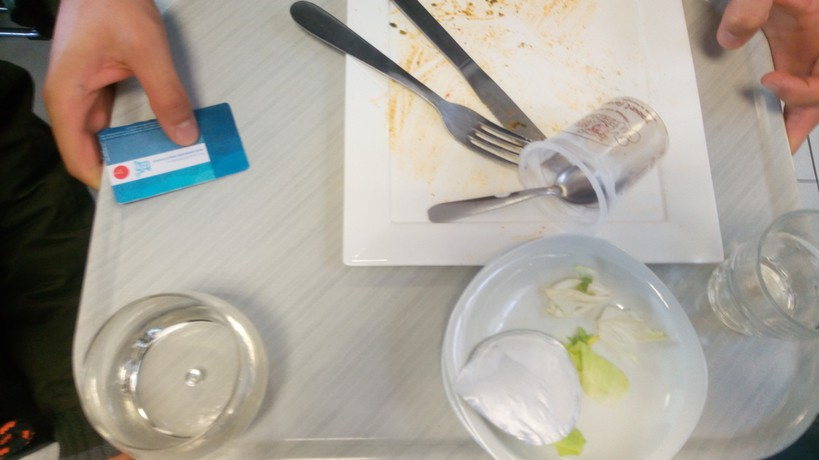cup: (702, 207, 819, 345)
cutlery: (283, 1, 570, 181), (420, 174, 584, 229)
orga: (548, 277, 596, 319)
trash: (503, 81, 677, 220), (453, 326, 593, 457)
